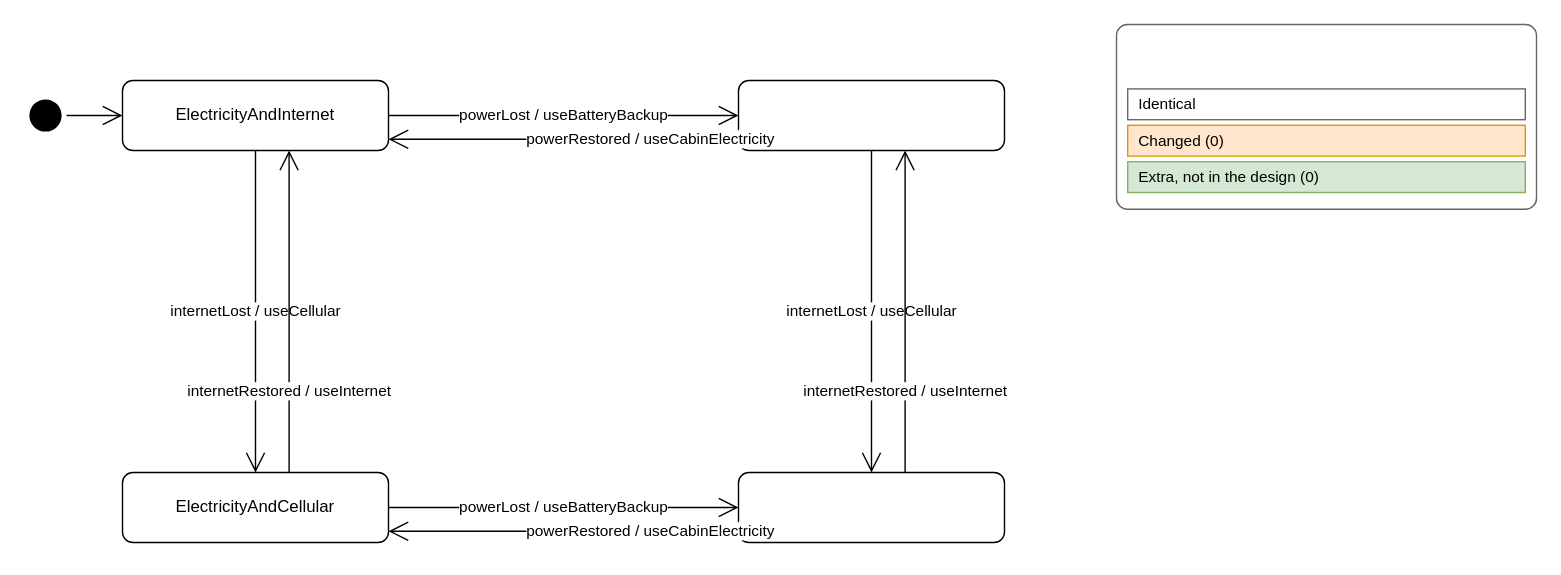
Some shapes in this 1561 by 575 pixel diagram are drawn without their labels. Here are the shapes that lost their labels. From the top down, the box of each, then its label:
(737, 79, 1004, 150): BatteryAndInternet
(1115, 23, 1536, 209): IMPLEMENTED STATE MACHINE built by AI · extracted from impl/include
(737, 471, 1004, 542): BatteryAndCellular
